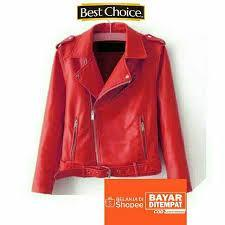jacket: (28, 19, 197, 200)
